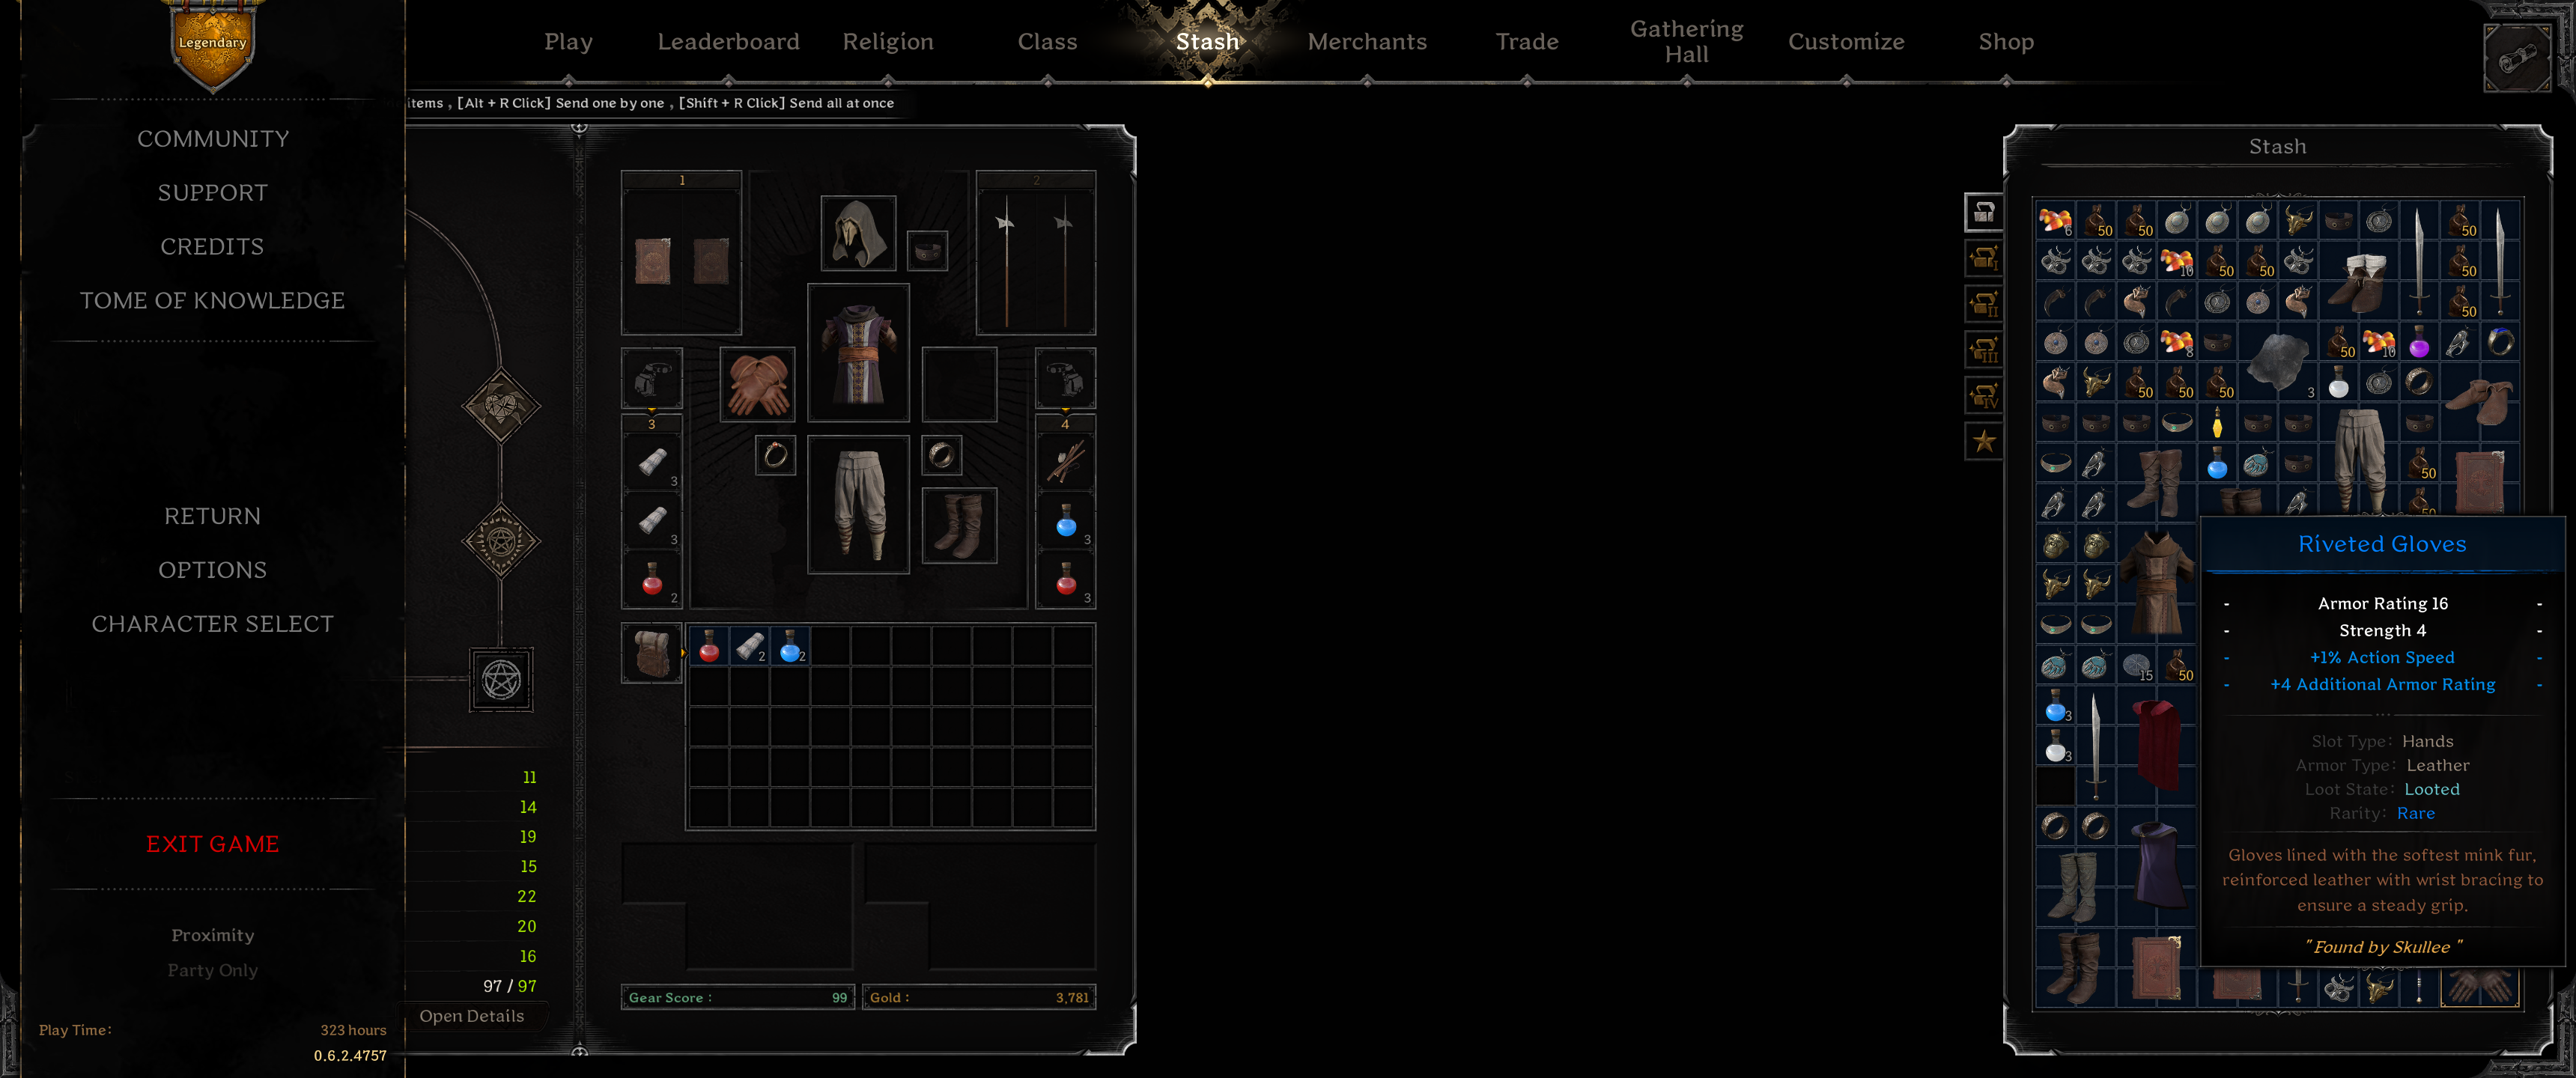Tooltip: (2200, 514, 2568, 968)
